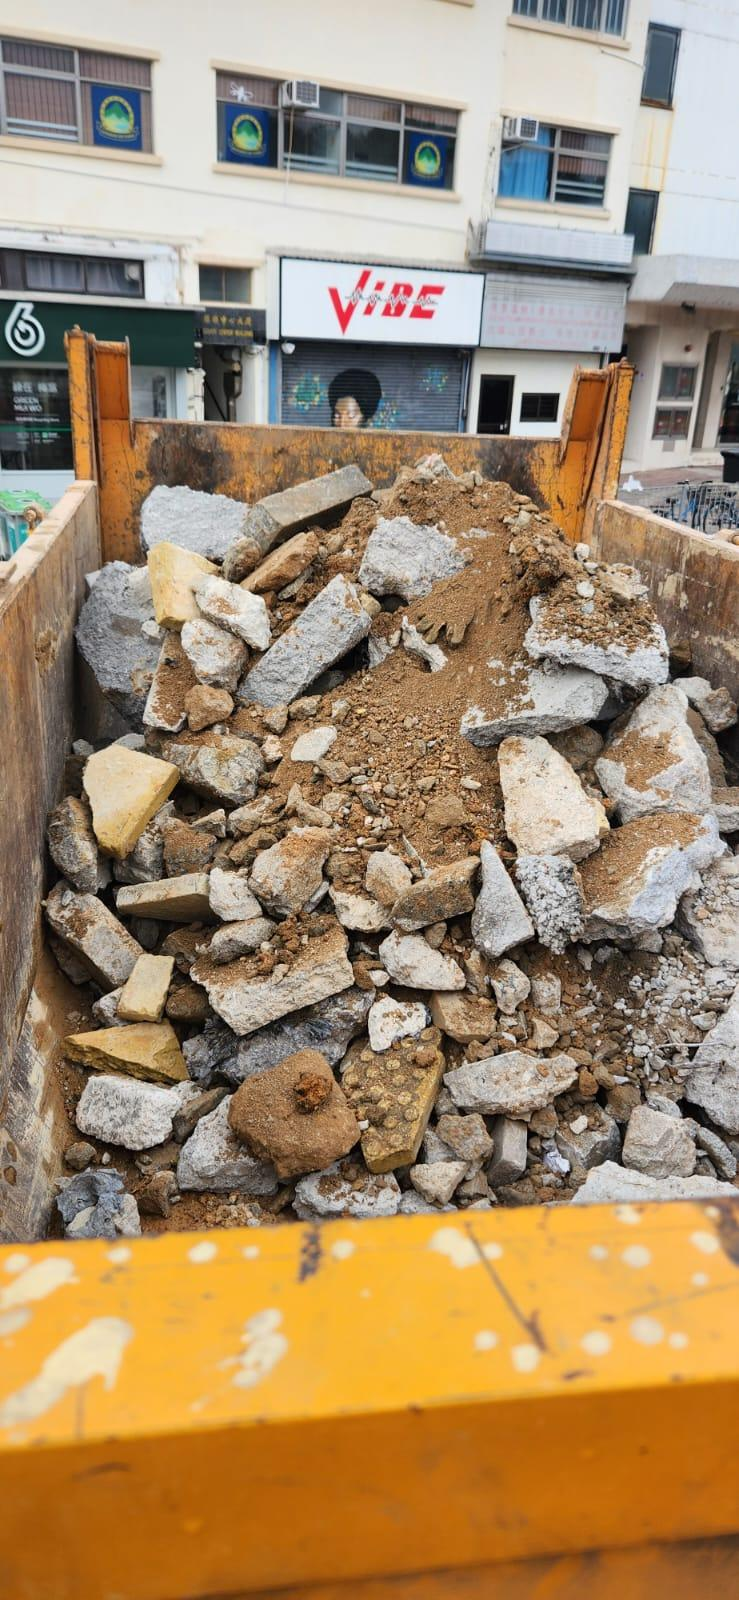dry: (102, 478, 720, 1198)
